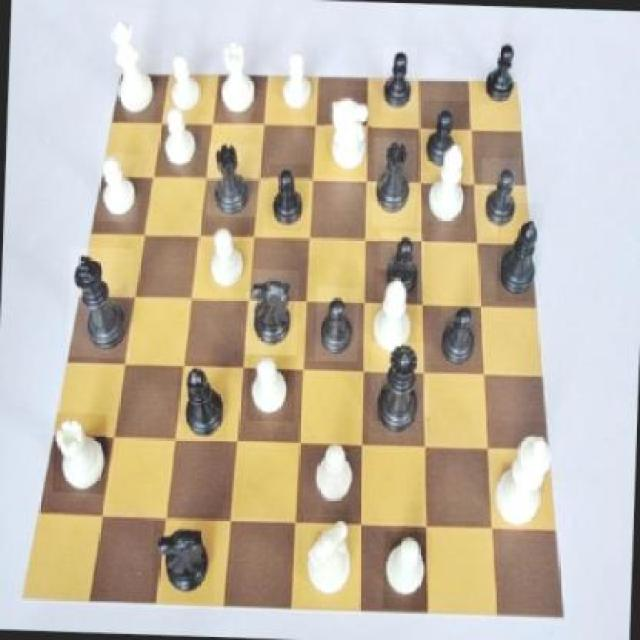bishop: (495, 203, 543, 303), (175, 360, 231, 443)
black-bishop: (68, 248, 134, 360)
black-king: (152, 518, 217, 602), (245, 269, 300, 356)
black-knight: (477, 34, 530, 106), (434, 296, 481, 370), (422, 100, 468, 174), (478, 158, 520, 238), (316, 286, 360, 362), (377, 232, 424, 302), (268, 164, 310, 232), (383, 44, 417, 112)
black-pawn: (368, 342, 430, 446)
black-queen: (372, 137, 417, 227), (206, 143, 259, 217)
black-rook: (371, 270, 418, 362), (428, 142, 470, 228)
white-bishop: (490, 420, 558, 533)
white-king: (300, 514, 360, 608), (323, 91, 372, 178)
white-knight: (382, 531, 432, 610), (308, 443, 360, 514), (203, 221, 253, 294), (246, 354, 296, 421), (274, 46, 318, 119), (160, 102, 204, 174), (96, 154, 140, 223), (166, 48, 209, 115)
white-pawn: (104, 8, 158, 120)
white-queen: (52, 412, 108, 495), (216, 40, 260, 116)
